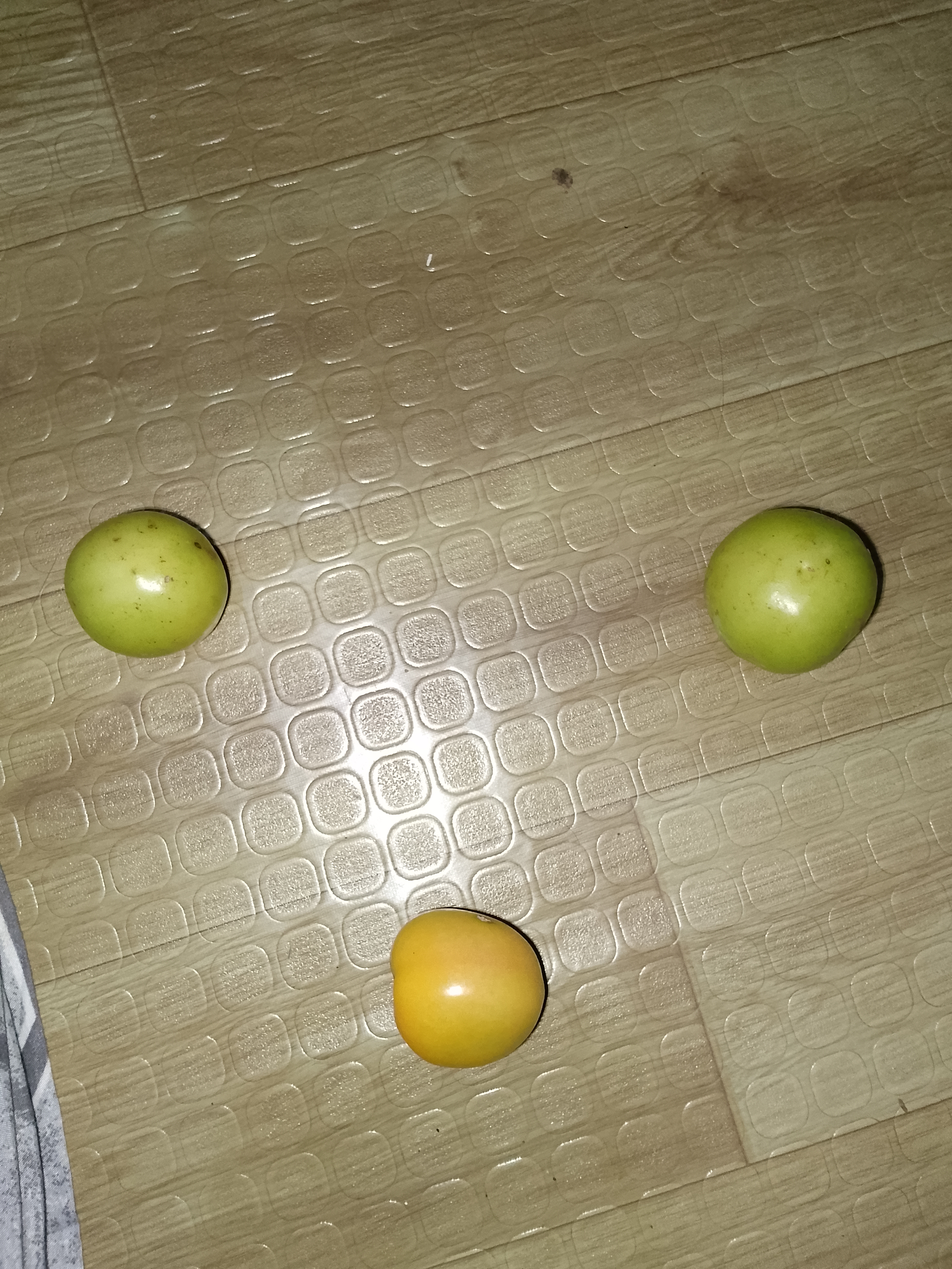Unripe: (324, 856, 610, 1106), (675, 452, 896, 729), (29, 496, 306, 677)
